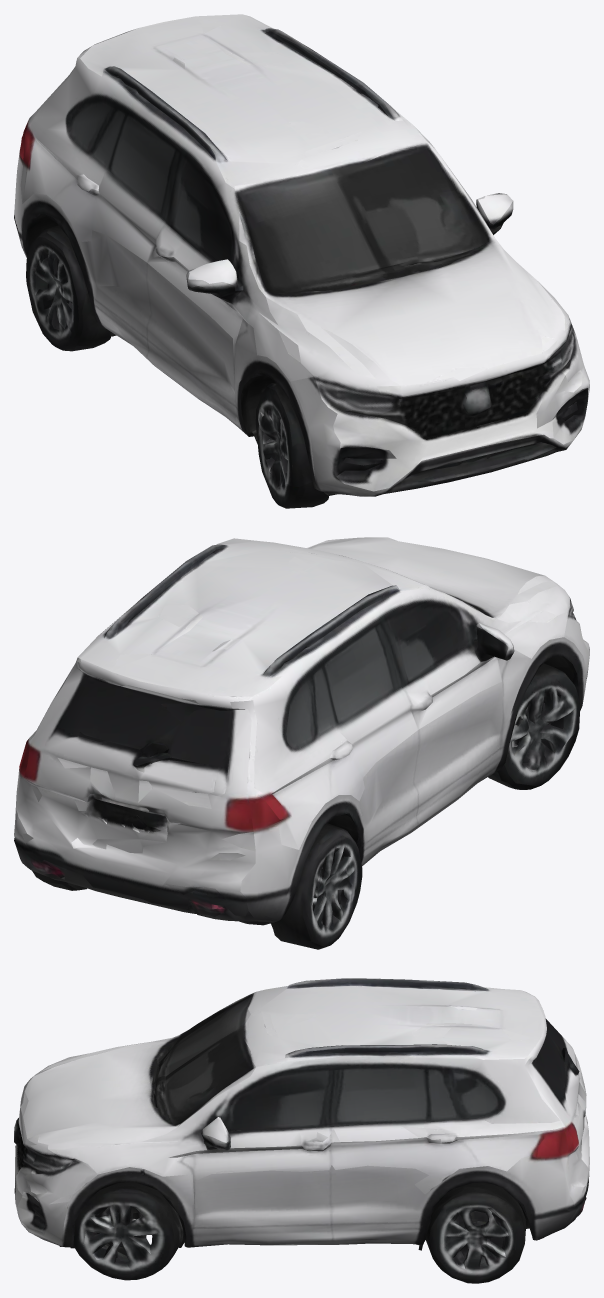
File: suv.glb
3 renders of one model, top to bottom at view 1: azimuth 30°, elevation 25°; view 2: azimuth 150°, elevation 25°; view 3: azimuth 270°, elevation 25°, orthographic. The views are drawn at different scales.
Visible parts, largest first — view 1: world; view 2: world; view 3: world.
Part boxes in pixels (x1,y1,x2,y2): world: [14, 14, 589, 508]; world: [14, 537, 589, 949]; world: [14, 978, 589, 1283].
Size of the model in its own units: 4.7 by 3.77 by 8.94.
1 material, 1 textured.
